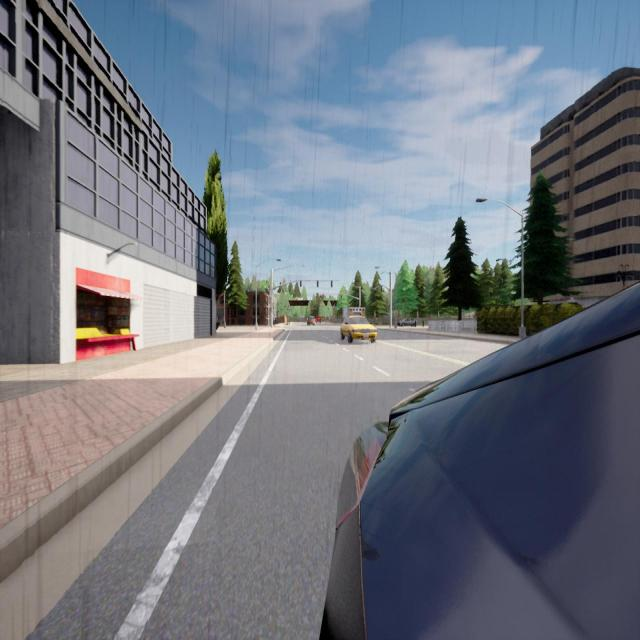Pedestrian: (422, 320, 424, 328)
Vehicle: (323, 283, 639, 638), (341, 316, 376, 342), (398, 318, 416, 327), (307, 317, 315, 326), (316, 316, 321, 323)
traffic_light: (331, 280, 332, 286), (317, 281, 318, 287), (300, 281, 301, 286), (321, 294, 322, 297), (341, 295, 342, 298), (330, 294, 330, 298)
